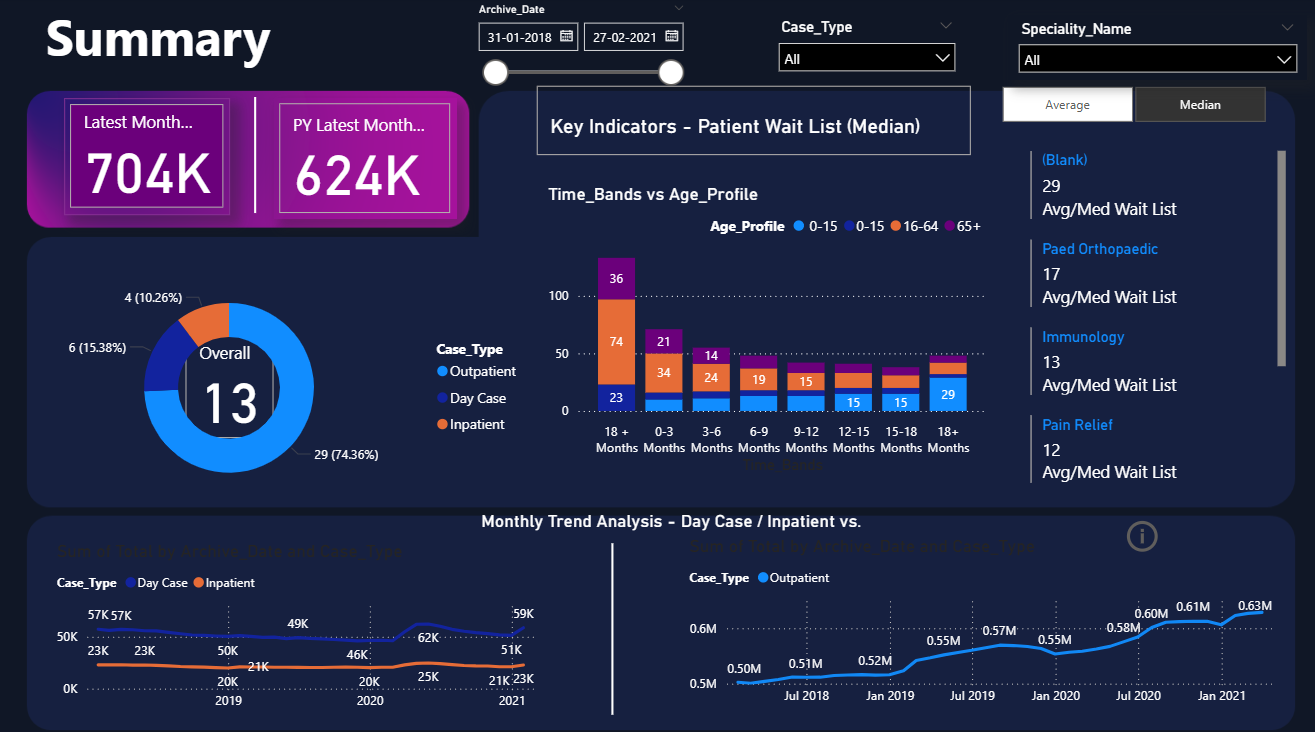

Layout of this report page (visuals, bound fields, positions):
{"tool":"powerbi","page":{"name":"Summary","canvas":[1280,720],"ordinal":0},"visuals":[{"type":"cardVisual","fields":{"Data":["All_Data.Avg/Med Wait List"]},"box":[176.7,321.5,95.7,110.4],"z":0},{"type":"cardVisual","fields":{"Data":["All_Data.Latest Month Wait List"]},"box":[64.5,98,160,112.9],"z":1000},{"type":"cardVisual","fields":{"Data":["All_Data.PY Latest Month Wait list"]},"box":[266.2,97.4,175.6,116.6],"z":2000},{"type":"slicer","fields":{"Values":["Calculation Method.Calc Method"]},"box":[944,80,304,48],"z":3000},{"type":"donutChart","fields":{"Category":["All_Data.Case_Type"],"Y":["All_Data.Avg/Med Wait List"]},"box":[18.4,265.1,496.1,224],"z":4000},{"type":"columnChart","title":"Time_Bands vs Age_Profile","fields":{"Y":["All_Data.Avg/Med Wait List"],"Category":["All_Data.Time_Bands"],"Series":["All_Data.Age_Profile"]},"box":[526.3,179.8,433.2,284.5],"z":5000},{"type":"multiRowCard","fields":{"Values":["All_Data.Avg/Med Wait List","All_Data.Specialty_Name"]},"box":[992,144,256,336],"z":6000},{"type":"cardVisual","fields":{"Data":["All_Data.Dynamic Title"]},"box":[514.6,80.8,429.5,78],"z":7000},{"type":"lineChart","fields":{"Category":["All_Data.Archive_Date"],"Y":["Sum(All_Data.Total)"],"Series":["All_Data.Case_Type"]},"box":[52.4,524.5,473.4,172.9],"z":8000},{"type":"lineChart","fields":{"Category":["All_Data.Archive_Date"],"Y":["Sum(All_Data.Total)"],"Series":["All_Data.Case_Type"]},"box":[662,520.2,586.8,172.9],"z":9000},{"type":"slicer","fields":{"Values":["All_Data.Archive_Date"]},"box":[451.5,0,223.7,104.3],"z":10000},{"type":"slicer","fields":{"Values":["All_Data.Case_Type"]},"box":[743.1,16.1,191,63.3],"z":11000},{"type":"slicer","fields":{"Values":["All_Data.Speciality_Name"]},"box":[975.1,17.4,289,63.3],"z":12000},{"type":"textbox","box":[40.5,0,272.4,95.7],"z":13000},{"type":"shape","box":[112,96,272,112],"z":14000},{"type":"shape","box":[512.1,527.6,162.9,165.5],"z":15000},{"type":"textbox","title":"Monthly Trend Analysis - Day Case / Inpatient vs. Outpatients","box":[406.1,495.3,486.2,19.4],"z":16000},{"type":"actionButton","box":[1084.4,500.4,100.6,39.7],"z":17000}]}

Visuals, with their boxes in screenshot pixels (x1, y1, x2, y2), scaled from the page's 1280x720 canvas onto the 1315x732 screenshot:
cardVisual - All_Data.Avg/Med Wait List: [182,327,280,439]
cardVisual - All_Data.Latest Month Wait List: [66,100,231,214]
cardVisual - All_Data.PY Latest Month Wait list: [273,99,454,218]
slicer - Calculation Method.Calc Method: [970,81,1282,130]
donutChart - All_Data.Case_Type x All_Data.Avg/Med Wait List: [19,270,529,497]
"Time_Bands vs Age_Profile" columnChart: [541,183,986,472]
multiRowCard - All_Data.Avg/Med Wait List x All_Data.Specialty_Name: [1019,146,1282,488]
cardVisual - All_Data.Dynamic Title: [529,82,970,161]
lineChart - All_Data.Archive_Date x Sum(All_Data.Total): [54,533,540,709]
lineChart - All_Data.Archive_Date x Sum(All_Data.Total): [680,529,1283,705]
slicer - All_Data.Archive_Date: [464,0,694,106]
slicer - All_Data.Case_Type: [763,16,960,81]
slicer - All_Data.Speciality_Name: [1002,18,1299,82]
textbox: [42,0,321,97]
shape: [115,98,394,211]
shape: [526,536,693,705]
"Monthly Trend Analysis - Day Case / Inpatient vs. Outpatients" textbox: [417,504,917,523]
actionButton: [1114,509,1217,549]
